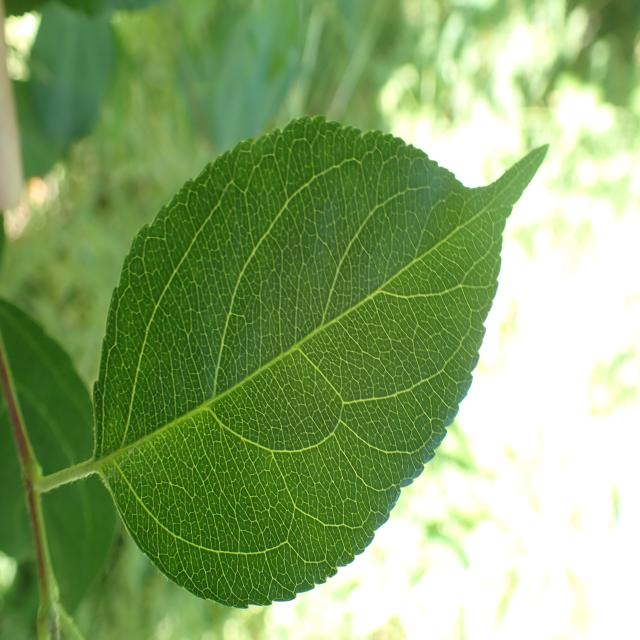healthy: (93, 113, 554, 610)
